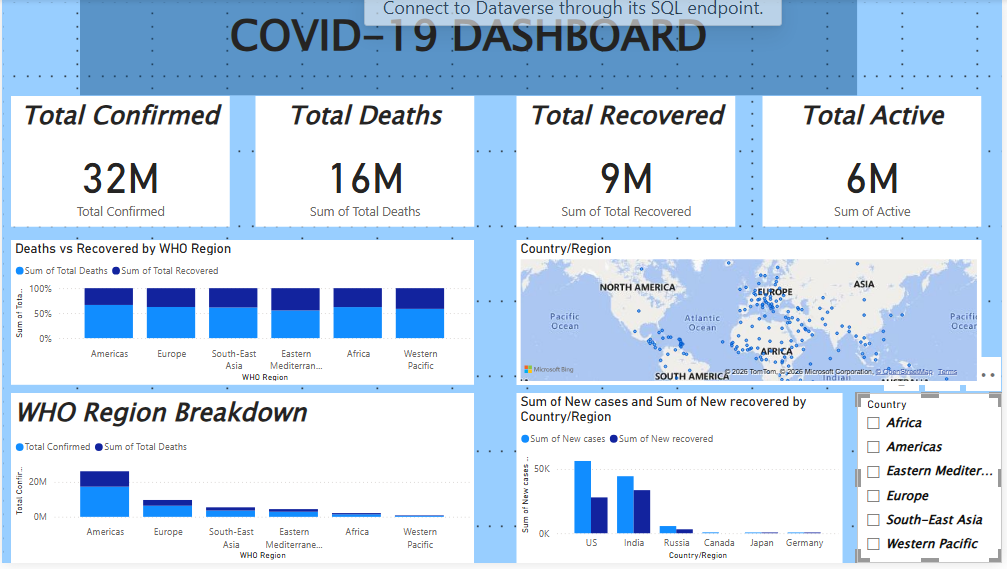

The page's visual inventory and layout, read from the dashboard file:
{"tool":"powerbi","page":{"name":"Page 1","canvas":[1280,720],"ordinal":0},"visuals":[{"type":"card","title":"Total Confirmed","fields":{"Values":["country_wise_latest.Total Confirmed"]},"box":[11,122.1,279.9,167.4],"z":0},{"type":"card","title":"Total Deaths","fields":{"Values":["Sum(country_wise_latest.Total Deaths)"]},"box":[323.8,122.1,279.9,167.4],"z":1000},{"type":"card","title":"Total Recovered","fields":{"Values":["Sum(country_wise_latest.Total Recovered)"]},"box":[658.7,122.1,279.9,167.4],"z":2000},{"type":"card","title":"Total Active","fields":{"Values":["Sum(country_wise_latest.Active)"]},"box":[972.9,122.1,279.9,167.4],"z":3000},{"type":"columnChart","title":" WHO Region Breakdown ","fields":{"Category":["country_wise_latest.WHO Region"],"Y":["country_wise_latest.Total Confirmed","Sum(country_wise_latest.Total Deaths)"]},"box":[11,502.2,592.8,218.2],"z":4000},{"type":"clusteredColumnChart","fields":{"Y":["Sum(country_wise_latest.New cases)","Sum(country_wise_latest.New recovered)"],"Category":["country_wise_latest.Country/Region"]},"box":[658.7,502.2,417.2,218.2],"z":5000},{"type":"slicer","fields":{"Values":["country_wise_latest.WHO Region"]},"box":[1095,502.2,185.2,218.2],"z":6000},{"type":"map","fields":{"Category":["country_wise_latest.Country/Region"]},"box":[658.7,307.4,594.2,185.2],"z":7000},{"type":"hundredPercentStackedColumnChart","title":"Deaths vs Recovered by WHO Region","fields":{"Y":["Sum(country_wise_latest.Total Deaths)","Sum(country_wise_latest.Total Recovered)"],"Category":["country_wise_latest.WHO Region"]},"box":[11,307.4,592.8,185.2],"z":8000},{"type":"textbox","box":[100.2,0,994.9,122.1],"z":9000}]}

Visuals, with their boxes on the page's 1280x720 design canvas (x1, y1, x2, y2). These are canvas units, not pixel positions in the 1007x569 screenshot, which may show the page scaled, cropped or inside an application window:
"Total Confirmed" card: 11 122 291 290
"Total Deaths" card: 324 122 604 290
"Total Recovered" card: 659 122 939 290
"Total Active" card: 973 122 1253 290
" WHO Region Breakdown " columnChart: 11 502 604 720
clusteredColumnChart - Sum(country_wise_latest.New cases) x Sum(country_wise_latest.New recovered): 659 502 1076 720
slicer - country_wise_latest.WHO Region: 1095 502 1280 720
map - country_wise_latest.Country/Region: 659 307 1253 493
"Deaths vs Recovered by WHO Region" hundredPercentStackedColumnChart: 11 307 604 493
textbox: 100 0 1095 122
